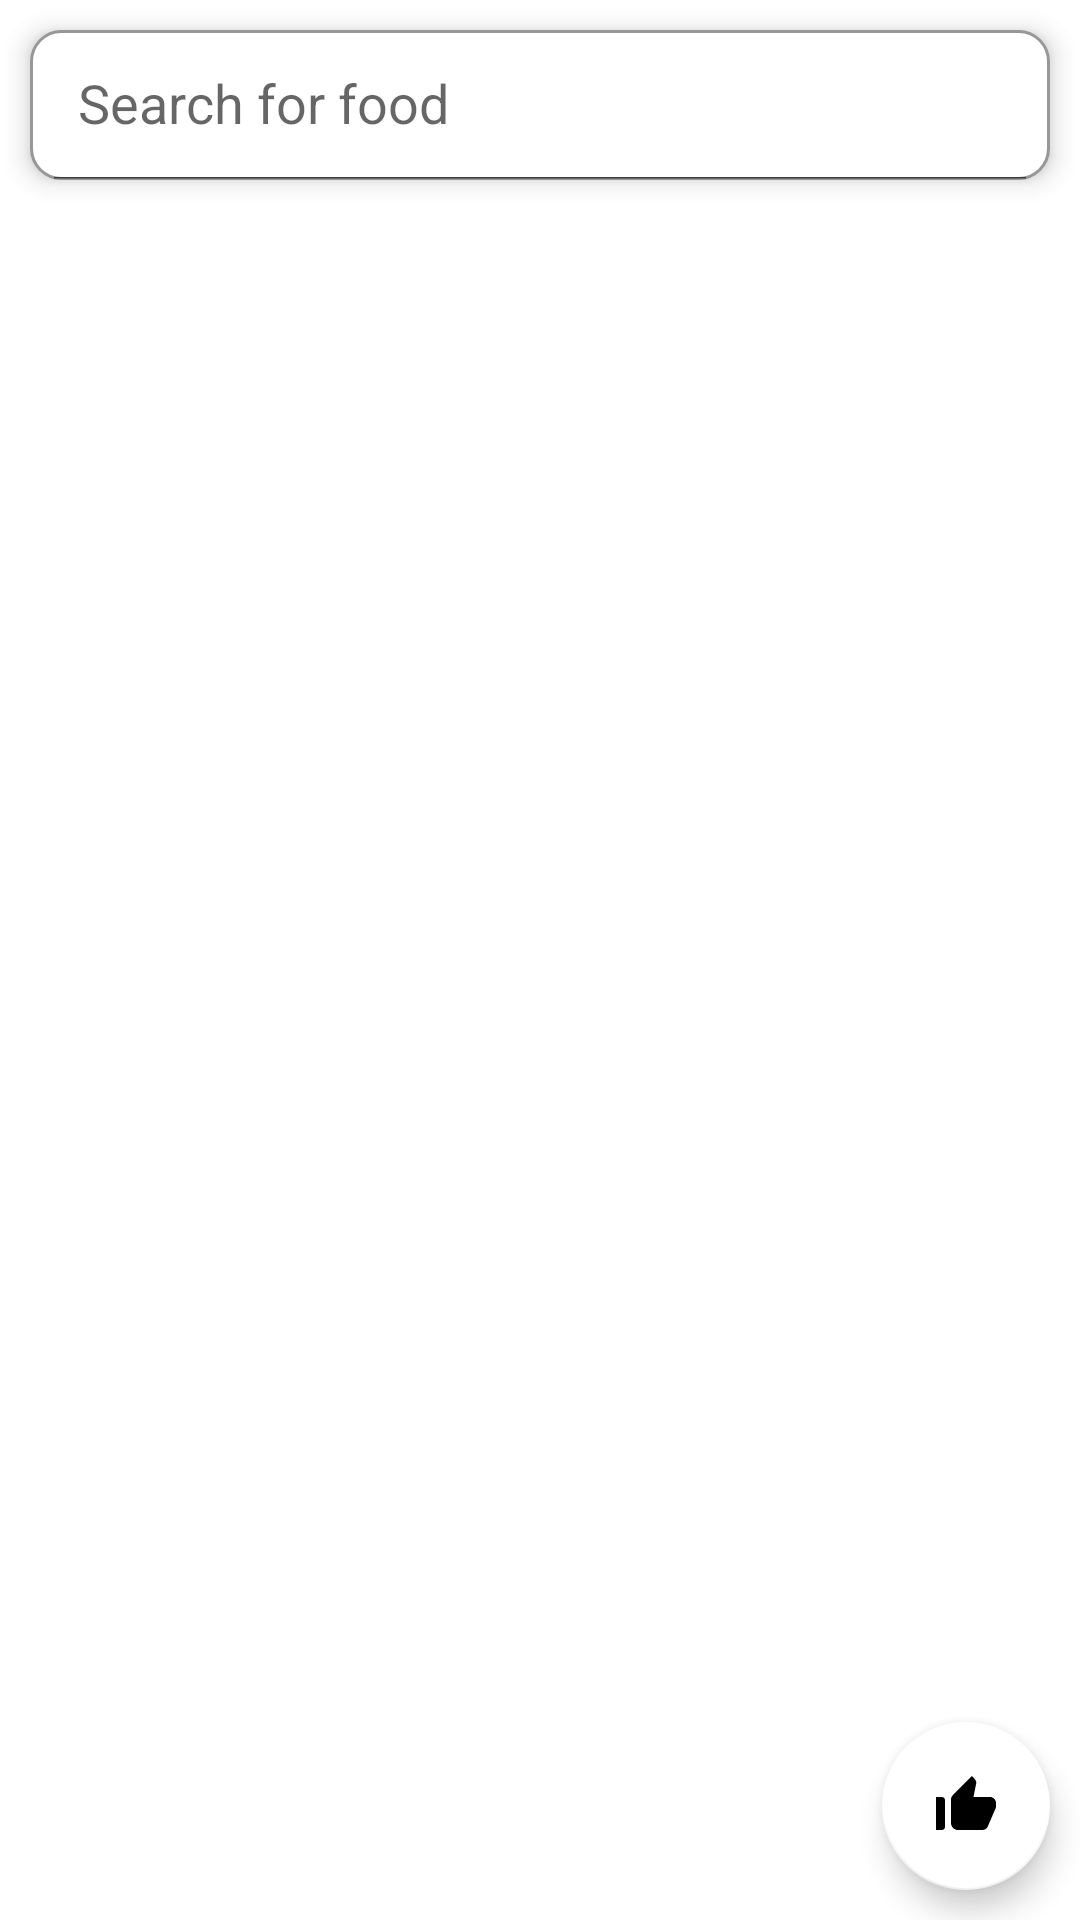

Screen size 1080*1920. Icon name, then its box in pixels as rect(x1, y1, x2, y2):
thumb up: rect(888, 1776, 996, 1843)
